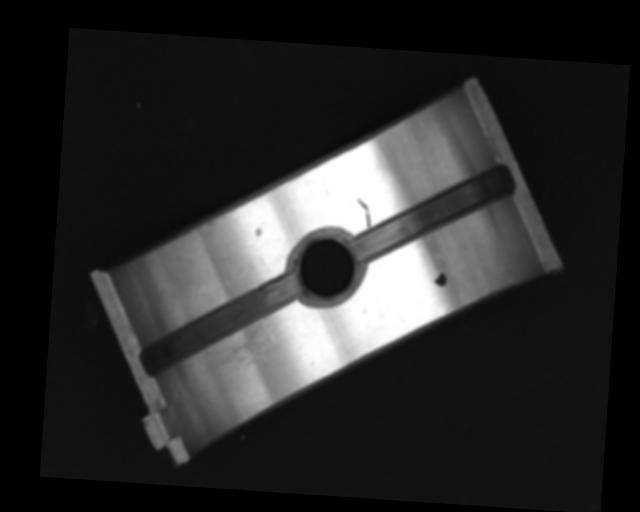blot: (432, 269, 448, 286)
bruise: (254, 226, 263, 238)
gap: (139, 263, 300, 385), (357, 157, 513, 268)
hole: (288, 228, 365, 304)
nick: (355, 198, 373, 229)
scratch: (199, 315, 274, 380)
